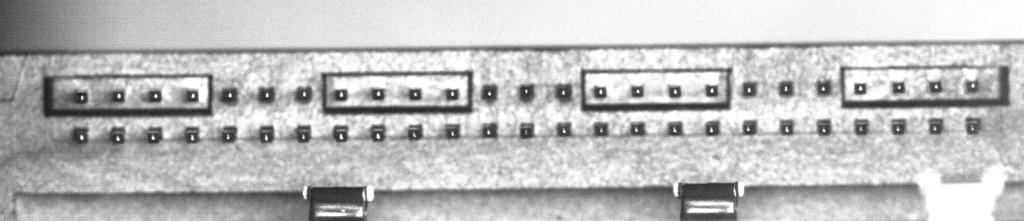pin_ok: (965, 116, 982, 134), (332, 124, 349, 142), (71, 126, 88, 143), (816, 118, 832, 135), (407, 123, 423, 140), (221, 125, 237, 142), (184, 126, 200, 143), (482, 86, 498, 102), (555, 85, 571, 101), (741, 81, 757, 97), (146, 127, 162, 143), (370, 125, 386, 141), (258, 127, 274, 143), (854, 118, 869, 135), (296, 125, 311, 142), (110, 127, 125, 144), (111, 89, 127, 104), (148, 89, 164, 104), (222, 88, 238, 103), (260, 87, 275, 103), (297, 87, 312, 103), (333, 87, 349, 102), (371, 87, 387, 102), (518, 85, 534, 100), (928, 118, 943, 134), (742, 119, 757, 135), (445, 123, 460, 139), (891, 118, 906, 134), (74, 90, 89, 105), (185, 89, 200, 104), (408, 87, 423, 102), (445, 87, 460, 102), (779, 81, 794, 96), (816, 80, 831, 95), (482, 123, 497, 138), (519, 123, 534, 138), (593, 122, 609, 136), (891, 80, 906, 94), (965, 78, 979, 93), (780, 119, 794, 134), (630, 122, 645, 136), (668, 121, 683, 135), (557, 122, 571, 137), (705, 122, 719, 136), (928, 80, 943, 93), (630, 84, 644, 97), (705, 84, 719, 97), (668, 85, 681, 98), (593, 85, 606, 98), (854, 83, 867, 95)
